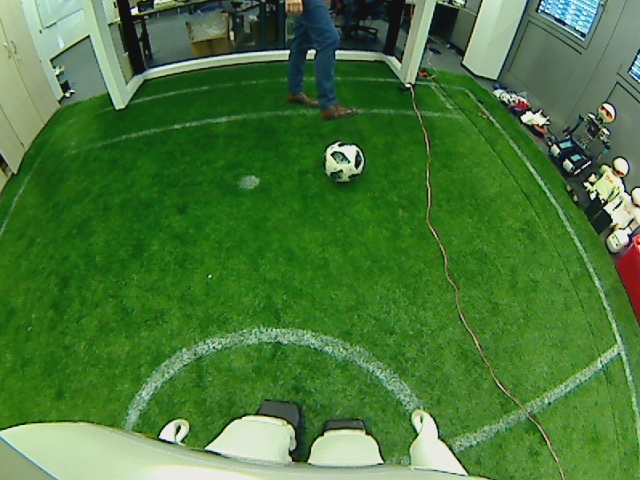ball: (320, 139, 366, 183)
